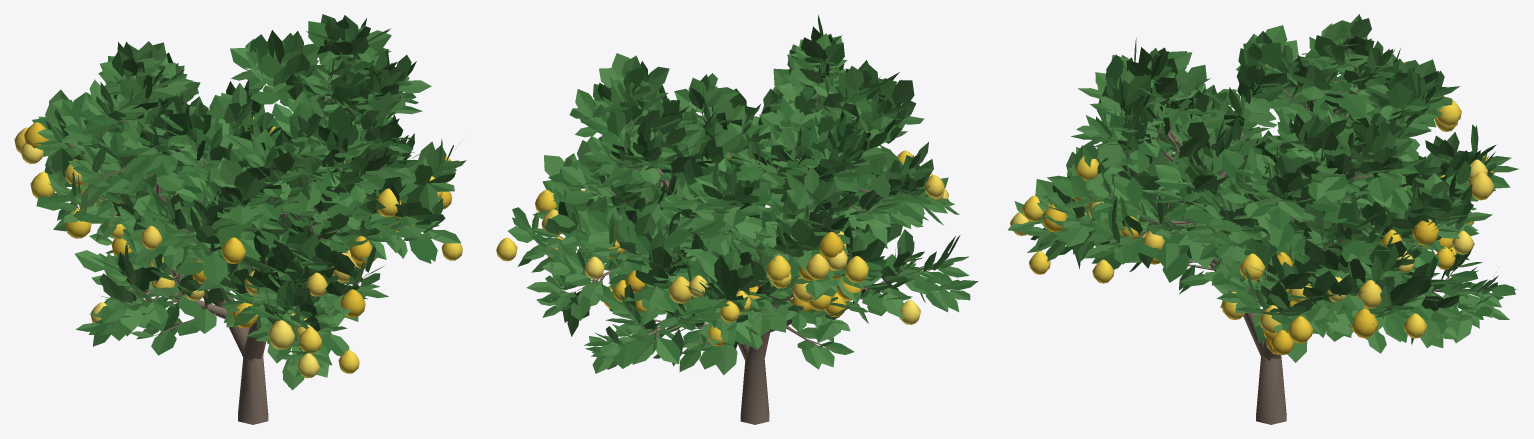
File: cognassier_dore_ete.glb
3 renders of one model, left to right at view 1: azimuth 30°, elevation 25°; view 2: azimuth 150°, elevation 25°; view 3: azimuth 270°, elevation 25°, orthographic. The views are drawn at different scales.
Visible parts, largest first — view 1: Cognassier_Feuillage, Cognassier_Coings, Cognassier_Tronc; view 2: Cognassier_Feuillage, Cognassier_Coings, Cognassier_Tronc; view 3: Cognassier_Feuillage, Cognassier_Coings, Cognassier_Tronc.
Boxes of the visible parts, x1,y1,x2,y2 form: Cognassier_Feuillage: (32,14,466,390); Cognassier_Coings: (14,116,462,378); Cognassier_Tronc: (66,58,446,424); Cognassier_Feuillage: (508,14,978,375); Cognassier_Coings: (496,150,948,346); Cognassier_Tronc: (532,65,949,424); Cognassier_Feuillage: (1008,14,1518,362); Cognassier_Coings: (1010,62,1495,355); Cognassier_Tronc: (1038,66,1487,424).
Bounding box in the file's own units: 3.25 × 2.7 × 3.41.
